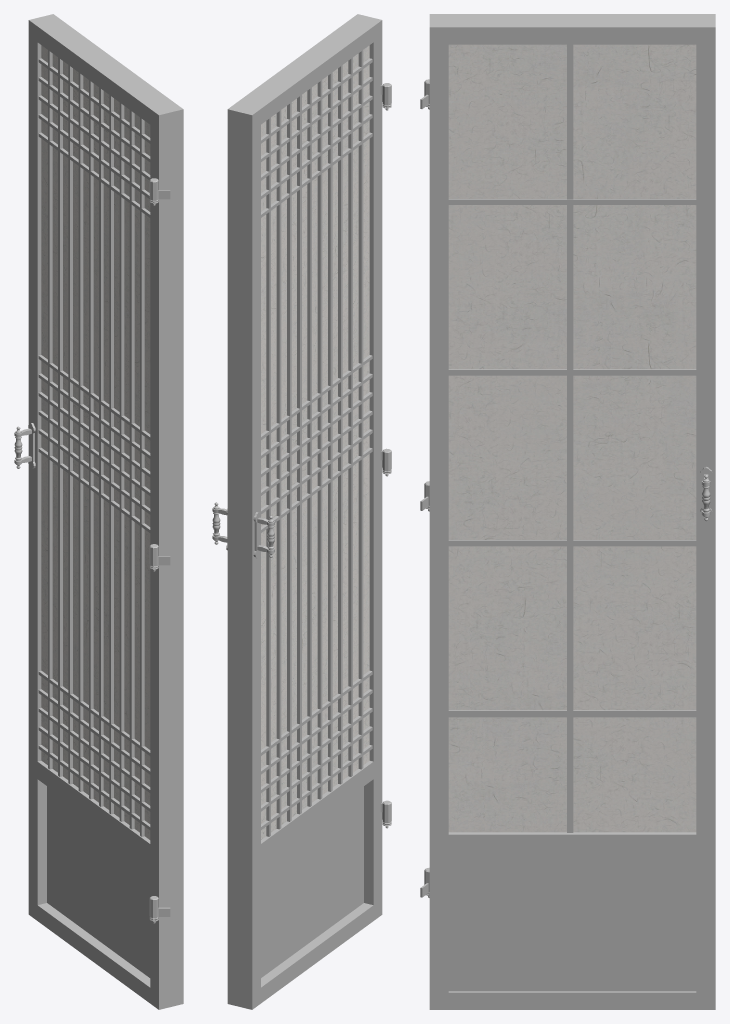
Rendered from SM_Door01G.fbx.
The picture shows the model from 3 angles, left to right: view 1: azimuth 30°, elevation 25°; view 2: azimuth 150°, elevation 25°; view 3: azimuth 270°, elevation 25°; orthographic projection. The views are drawn at different scales.
Parts seen in each view (by area): view 1: SM_Door01G; view 2: SM_Door01G; view 3: SM_Door01G.
Boxes of the visible parts, x1,y1,x2,y2 form: SM_Door01G: (14,14,183,1009); SM_Door01G: (212,14,391,1009); SM_Door01G: (420,14,715,1009).
Bounding box in the file's own units: 13.96 × 53.53 × 197.
